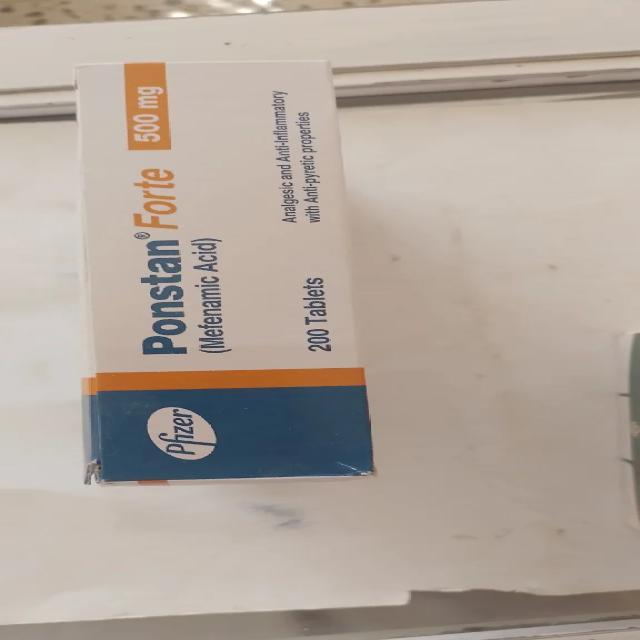drug-name: (130, 164, 190, 356)
